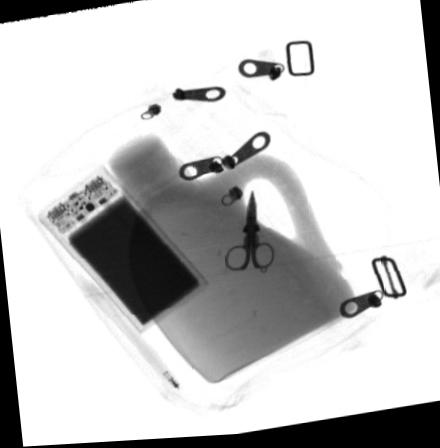Powerbank: (33, 164, 211, 334)
Scissors: (223, 189, 276, 275)
